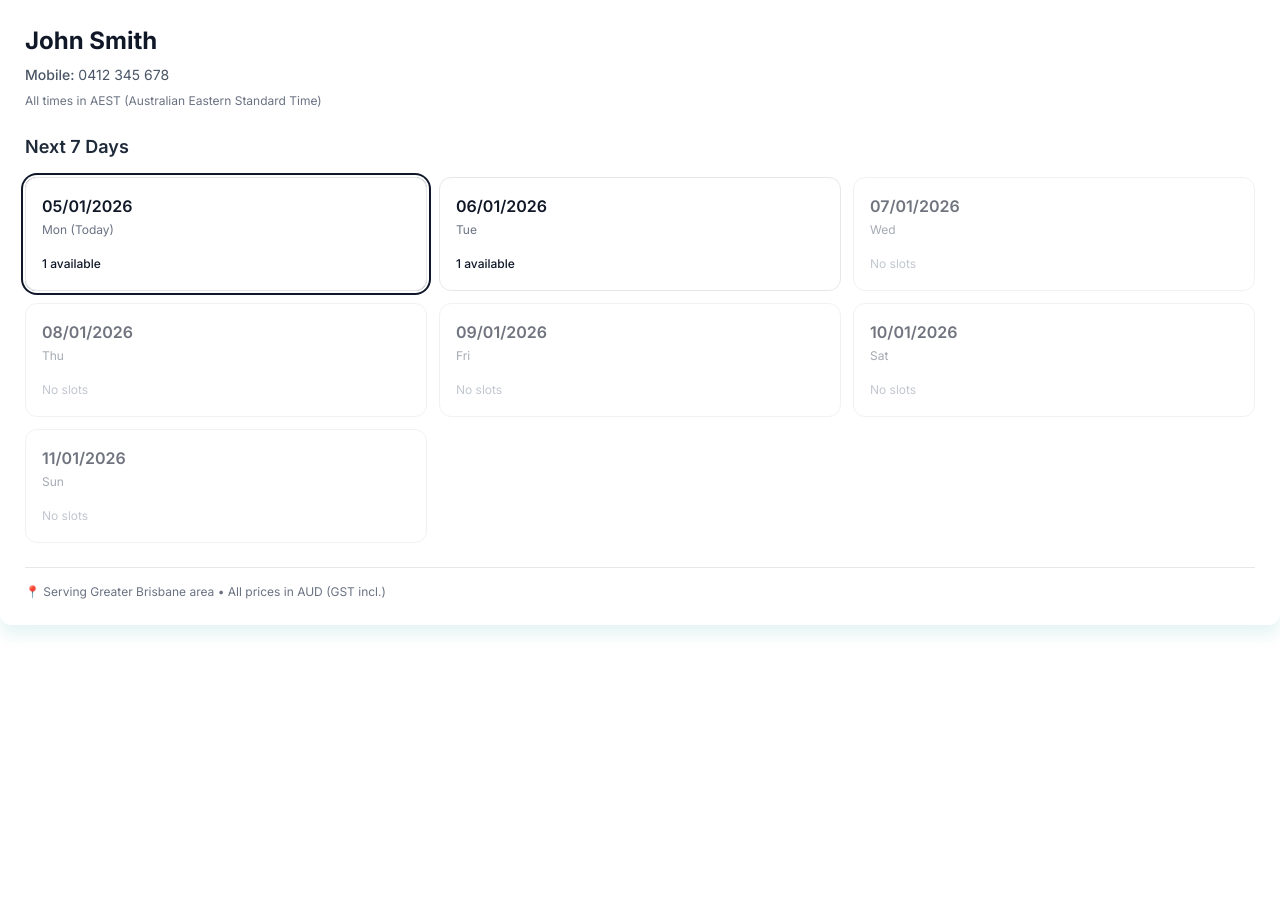
ContractorAvailability › Edge Cases › handles selecting date with no slots
Find a date with no slots and click it
Click the button "07/01/2026 Wed No slots": x=915, y=206 x1=853 y1=177 x2=1255 y2=291
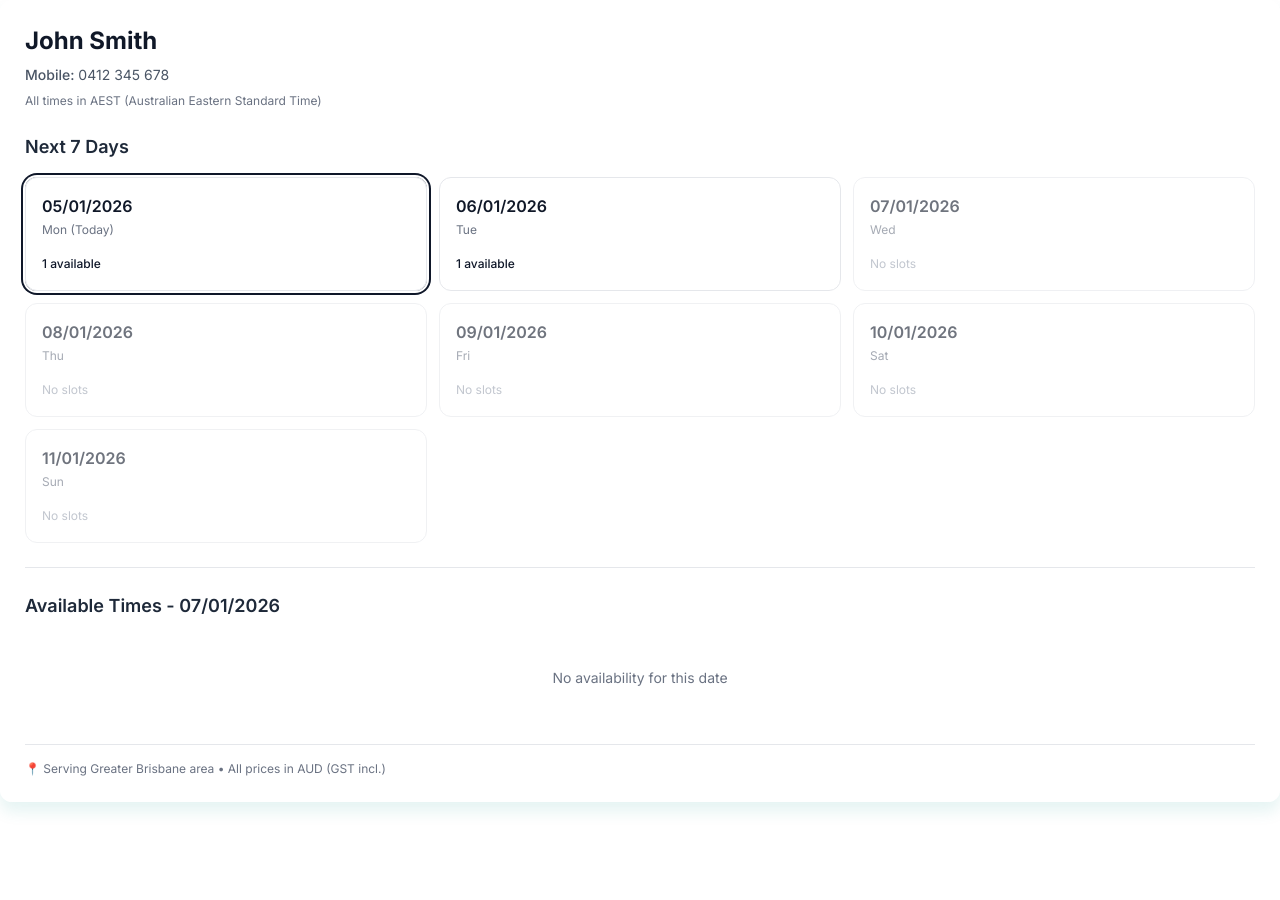
Now the text "No availability for this date" is shown, box x1=552 y1=669 x2=728 y2=686
